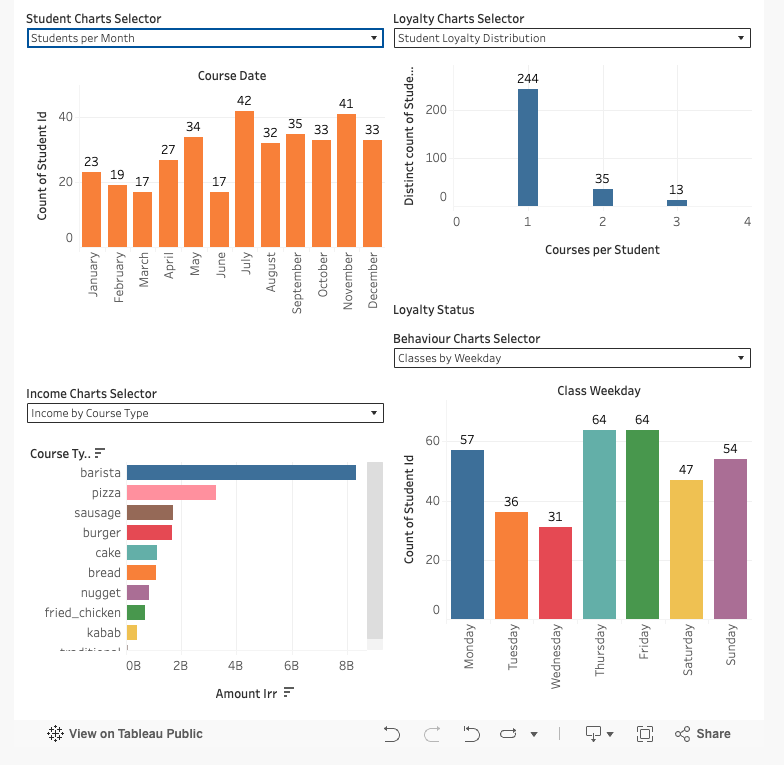

This screenshot's page, from the dashboard's own definition file:
{"tool":"tableau","page":{"name":"NSP_Student_Analytics_Dashboard","canvas":[1000,1000],"units":"permille","ordinal":0},"visuals":[{"type":"parameter","param":"[Parameters].[Parameter 1]","box":[11.8,9.4,488.2,61.1]},{"type":"parameter","param":"[Parameters].[Parameter 3]","box":[500,9.4,488.2,61.1]},{"type":"worksheet","title":"Students per Month","mark":"Bar","rows":["student_id"],"cols":["course_date"],"box":[11.8,70.5,488.2,1.2]},{"type":"worksheet","title":"Student Loyalty Distribution","mark":"Bar","rows":["student_id"],"cols":["Calculation_1295770093761597444"],"box":[500,70.5,488.2,1.2]},{"type":"worksheet","title":"Students per Course","mark":"Automatic","rows":["course_type"],"cols":["student_id"],"box":[11.8,71.7,488.2,10.6]},{"type":"worksheet","title":"Income Loyal vs Non-loyal","mark":"Pie","box":[500,71.7,488.2,305]},{"type":"worksheet","title":"Students by Region","mark":"Automatic","rows":["student_id"],"cols":["Calculation_975873782699323395"],"box":[11.8,82.3,488.2,326.7]},{"type":"legend","title":"Income Loyal vs Non-loyal","param":"[federated.00z0pdi1mefw8q116mhfr0mf0rm9].[none:Calculation_1295770093762330629:n","box":[500,376.6,488.2,77.6]},{"type":"worksheet","title":"Students per Season","mark":"Pie","box":[11.8,408.9,488.2,35.2]},{"type":"legend","title":"Students per Season","param":"[federated.00z0pdi1mefw8q116mhfr0mf0rm9].[none:Calculation_975873782696701953:nk","box":[11.8,444.2,488.2,10.6]},{"type":"parameter","param":"[Parameters].[Parameter 4]","box":[500,454.2,488.2,62.3]},{"type":"parameter","param":"[Parameters].[Parameter 2]","box":[11.8,454.8,488.2,61.1]},{"type":"worksheet","title":"Income per Month","mark":"Automatic","rows":["amount_irr"],"cols":["course_date"],"box":[11.8,515.9,488.2,461.8]},{"type":"worksheet","title":"Classes by Weekday","mark":"Bar","rows":["student_id"],"cols":["Calculation_1431159557568741378"],"box":[500,524.4,488.2,1.2]},{"type":"worksheet","title":"Most Popular Combinations","mark":"Automatic","rows":["Course Combo"],"cols":["Student Count"],"box":[500,525.6,488.2,379.6]},{"type":"worksheet","title":"Income per Season","mark":"Automatic","rows":["amount_irr"],"cols":["Calculation_975873782696701953"],"box":[11.8,977.7,488.2,1.2]},{"type":"worksheet","title":"Income by Course Type","mark":"Automatic","rows":["course_type"],"cols":["amount_irr"],"box":[11.8,978.8,488.2,10.6]},{"type":"worksheet","title":"Income by Region","mark":"Automatic","rows":["amount_irr"],"cols":["Calculation_975873782699323395"],"box":[11.8,989.4,488.2,1.2]}]}

Visuals, with their boxes on the dashboard's canvas, which has no fixed pixel size, in thousandths of its width and height (x1, y1, x2, y2). These are canvas units, not pixel positions in the 784x765 screenshot, which may show the page scaled, cropped or inside an application window:
parameter: (x1=12, y1=9, x2=500, y2=70)
parameter: (x1=500, y1=9, x2=988, y2=70)
"Students per Month" worksheet (Bar marks): (x1=12, y1=70, x2=500, y2=72)
"Student Loyalty Distribution" worksheet (Bar marks): (x1=500, y1=70, x2=988, y2=72)
"Students per Course" worksheet: (x1=12, y1=72, x2=500, y2=82)
"Income Loyal vs Non-loyal" worksheet (Pie marks): (x1=500, y1=72, x2=988, y2=377)
"Students by Region" worksheet: (x1=12, y1=82, x2=500, y2=409)
"Income Loyal vs Non-loyal" legend: (x1=500, y1=377, x2=988, y2=454)
"Students per Season" worksheet (Pie marks): (x1=12, y1=409, x2=500, y2=444)
"Students per Season" legend: (x1=12, y1=444, x2=500, y2=455)
parameter: (x1=500, y1=454, x2=988, y2=516)
parameter: (x1=12, y1=455, x2=500, y2=516)
"Income per Month" worksheet: (x1=12, y1=516, x2=500, y2=978)
"Classes by Weekday" worksheet (Bar marks): (x1=500, y1=524, x2=988, y2=526)
"Most Popular Combinations" worksheet: (x1=500, y1=526, x2=988, y2=905)
"Income per Season" worksheet: (x1=12, y1=978, x2=500, y2=979)
"Income by Course Type" worksheet: (x1=12, y1=979, x2=500, y2=989)
"Income by Region" worksheet: (x1=12, y1=989, x2=500, y2=991)
